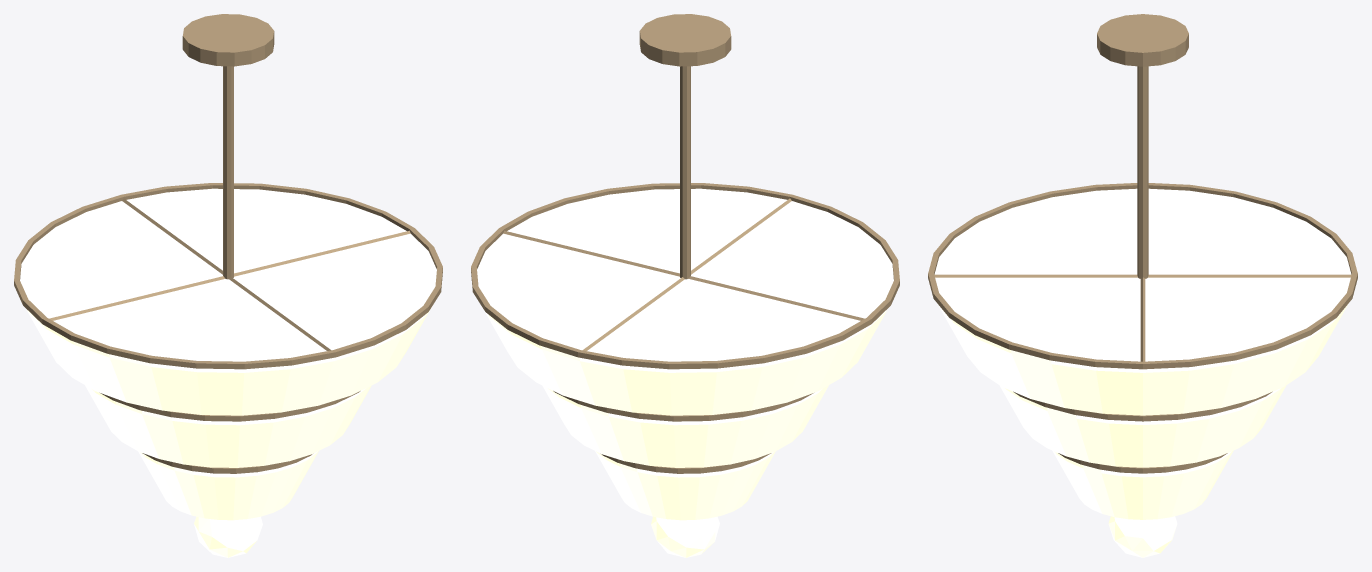
File: chandelier.glb
3 views of the same model, side by side, from view 1: azimuth 30°, elevation 25°; view 2: azimuth 150°, elevation 25°; view 3: azimuth 270°, elevation 25° (orthographic).
Visible parts, largest first — view 1: chandelier_lamp_glass, chandelier_bronze; view 2: chandelier_lamp_glass, chandelier_bronze; view 3: chandelier_lamp_glass, chandelier_bronze.
Boxes of the visible parts, box(x1,y1,x2,y2) form: chandelier_lamp_glass: box(20, 188, 436, 557); chandelier_bronze: box(14, 14, 442, 473); chandelier_lamp_glass: box(477, 188, 893, 557); chandelier_bronze: box(471, 14, 899, 473); chandelier_lamp_glass: box(934, 188, 1351, 557); chandelier_bronze: box(928, 14, 1357, 473).
Size of the model in its own units: 1.12 by 1.5 by 1.12.
